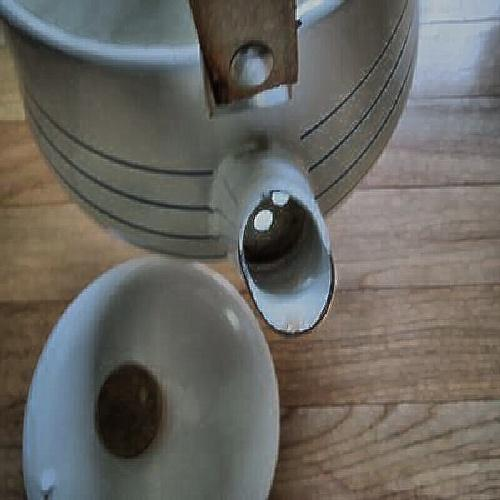kettle: (27, 14, 428, 330)
